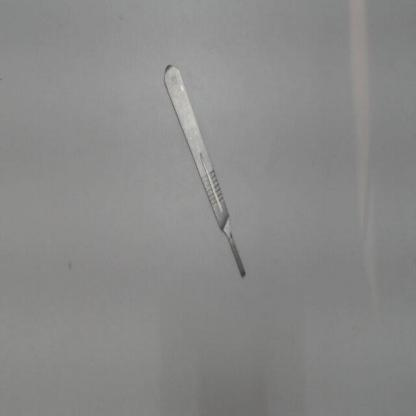No.4 BP Handle: (151, 48, 259, 291)
